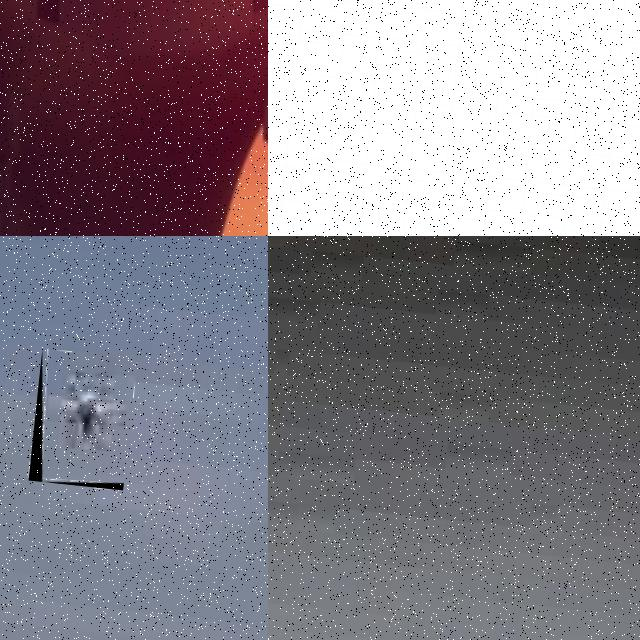0: (28, 349, 136, 490)
drone: (0, 0, 268, 236)
